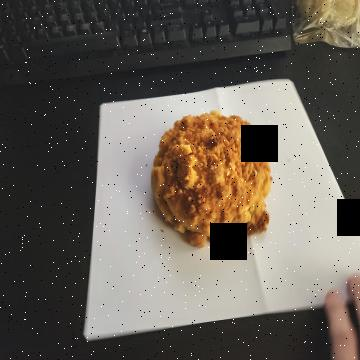soboru_bread: (152, 112, 272, 244)
